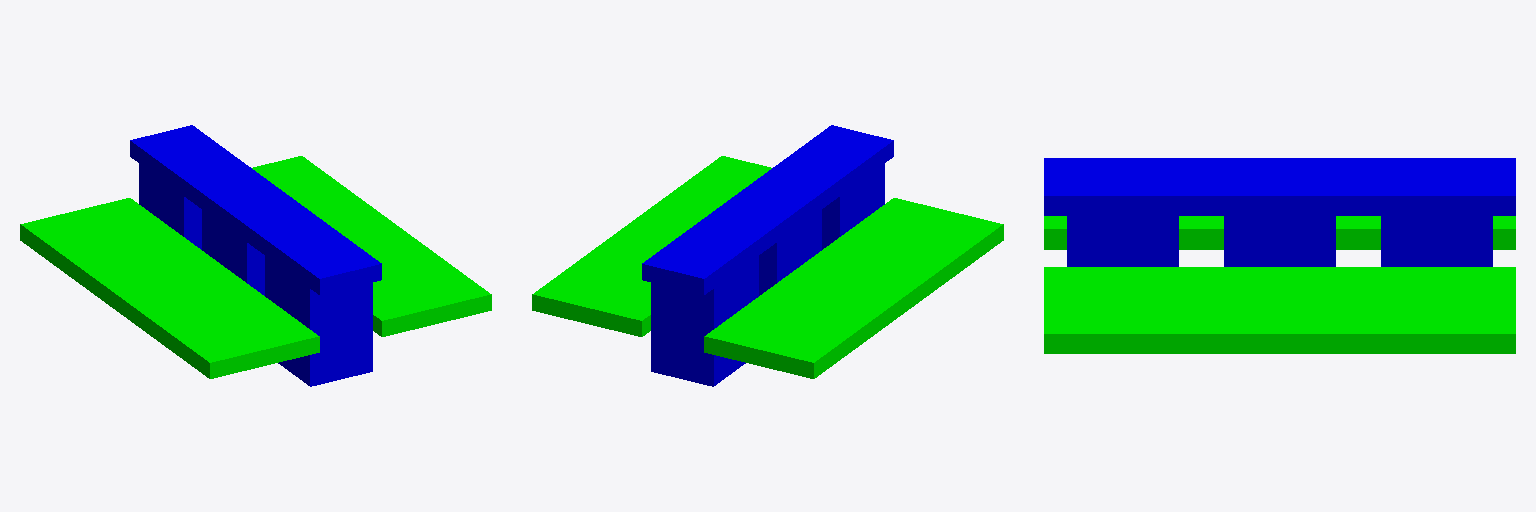
URDF robot description (robot):
<robot name = "robot">
    <link name="root">
        <inertial>
            <origin xyz="0.0 0.0 1.5" rpy="0 0 0"/>
            <mass value="1" />
            <inertia ixx="100" ixy="0" ixz="0" iyy="100" iyz="0" izz="100" />
        </inertial>
        <visual>
            <origin xyz="0.0 0.0 1.5" rpy="0 0 0"/>
            <geometry>
                <box size="0 0 0.0001" />
            </geometry>
            <material name="Green">
                <color rgba="0 1.0 0.0 1.0"/>
            </material>
        </visual>
        <collision>
            <origin xyz="0.0 0.0 1.5" rpy="0 0 0"/>
            <geometry>
                <box size="0 0 0.0001" />
            </geometry>
        </collision>
    </link>
    <joint name="root_000" type="revolute">
       <parent link="root"/>
       <child  link="000"/>
       <origin rpy="0 0 0" xyz="0.0 0.0 1.5" />
     <axis xyz="1 0 0"/>
       <limit effort="0.0" lower="-3.14159" upper="3.14159" velocity="0.0"/>
    </joint>
    <link name="000">
        <inertial>
            <origin xyz="0.0 0.35 0.0" rpy="0 0 0"/>
            <mass value="1" />
            <inertia ixx="100" ixy="0" ixz="0" iyy="100" iyz="0" izz="100" />
        </inertial>
        <visual>
            <origin xyz="0.0 0.35 0.0" rpy="0 0 0"/>
            <geometry>
                <box size="0.4 0.7 0.1" />
            </geometry>
            <material name="Blue">
                <color rgba="0 0.0 1.0 1.0"/>
            </material>
        </visual>
        <collision>
            <origin xyz="0.0 0.35 0.0" rpy="0 0 0"/>
            <geometry>
                <box size="0.4 0.7 0.1" />
            </geometry>
        </collision>
    </link>
    <joint name="000_010" type="revolute">
       <parent link="000"/>
       <child  link="010"/>
       <origin rpy="0 0 0" xyz="0.0 0.7 -0.0" />
     <axis xyz="0 1 0"/>
       <limit effort="0.0" lower="-3.14159" upper="3.14159" velocity="0.0"/>
    </joint>
    <link name="010">
        <inertial>
            <origin xyz="0.0 0.35 -0.0" rpy="0 0 0"/>
            <mass value="1" />
            <inertia ixx="100" ixy="0" ixz="0" iyy="100" iyz="0" izz="100" />
        </inertial>
        <visual>
            <origin xyz="0.0 0.35 -0.0" rpy="0 0 0"/>
            <geometry>
                <box size="0.4 0.7 0.1" />
            </geometry>
            <material name="Blue">
                <color rgba="0 0.0 1.0 1.0"/>
            </material>
        </visual>
        <collision>
            <origin xyz="0.0 0.35 -0.0" rpy="0 0 0"/>
            <geometry>
                <box size="0.4 0.7 0.1" />
            </geometry>
        </collision>
    </link>
    <joint name="010_020" type="revolute">
       <parent link="010"/>
       <child  link="020"/>
       <origin rpy="0 0 0" xyz="0.0 0.7 -0.0" />
     <axis xyz="0 1 0"/>
       <limit effort="0.0" lower="-3.14159" upper="3.14159" velocity="0.0"/>
    </joint>
    <link name="020">
        <inertial>
            <origin xyz="0.0 0.35 -0.0" rpy="0 0 0"/>
            <mass value="1" />
            <inertia ixx="100" ixy="0" ixz="0" iyy="100" iyz="0" izz="100" />
        </inertial>
        <visual>
            <origin xyz="0.0 0.35 -0.0" rpy="0 0 0"/>
            <geometry>
                <box size="0.4 0.7 0.1" />
            </geometry>
            <material name="Blue">
                <color rgba="0 0.0 1.0 1.0"/>
            </material>
        </visual>
        <collision>
            <origin xyz="0.0 0.35 -0.0" rpy="0 0 0"/>
            <geometry>
                <box size="0.4 0.7 0.1" />
            </geometry>
        </collision>
    </link>
    <joint name="020_020-100" type="revolute">
       <parent link="020"/>
       <child  link="020-100"/>
       <origin rpy="0 0 0" xyz="0.0 0.35 -0.05" />
     <axis xyz="0 0 1"/>
       <limit effort="0.0" lower="-3.14159" upper="3.14159" velocity="0.0"/>
    </joint>
    <link name="020-100">
        <inertial>
            <origin xyz="0.0 0.0 -0.3" rpy="0 0 0"/>
            <mass value="1" />
            <inertia ixx="100" ixy="0" ixz="0" iyy="100" iyz="0" izz="100" />
        </inertial>
        <visual>
            <origin xyz="0.0 0.0 -0.3" rpy="0 0 0"/>
            <geometry>
                <box size="0.4 0.5 0.6" />
            </geometry>
            <material name="Blue">
                <color rgba="0 0.0 1.0 1.0"/>
            </material>
        </visual>
        <collision>
            <origin xyz="0.0 0.0 -0.3" rpy="0 0 0"/>
            <geometry>
                <box size="0.4 0.5 0.6" />
            </geometry>
        </collision>
    </link>
    <joint name="020-100_020-100-200" type="revolute">
       <parent link="020-100"/>
       <child  link="020-100-200"/>
       <origin rpy="0 0 0" xyz="0.2 0.0 -0.3" />
     <axis xyz="1 0 0"/>
       <limit effort="0.0" lower="-3.14159" upper="3.14159" velocity="0.0"/>
    </joint>
    <link name="020-100-200">
        <inertial>
            <origin xyz="0.35 0.0 -0.0" rpy="0 0 0"/>
            <mass value="1" />
            <inertia ixx="100" ixy="0" ixz="0" iyy="100" iyz="0" izz="100" />
        </inertial>
        <visual>
            <origin xyz="0.35 0.0 -0.0" rpy="0 0 0"/>
            <geometry>
                <box size="0.7 0.7 0.1" />
            </geometry>
            <material name="Green">
                <color rgba="0 1.0 0.0 1.0"/>
            </material>
        </visual>
        <collision>
            <origin xyz="0.35 0.0 -0.0" rpy="0 0 0"/>
            <geometry>
                <box size="0.7 0.7 0.1" />
            </geometry>
        </collision>
    </link>
    <joint name="020-100_020-100-201" type="revolute">
       <parent link="020-100"/>
       <child  link="020-100-201"/>
       <origin rpy="0 0 0" xyz="-0.2 0.0 -0.3" />
     <axis xyz="1 0 0"/>
       <limit effort="0.0" lower="-3.14159" upper="3.14159" velocity="0.0"/>
    </joint>
    <link name="020-100-201">
        <inertial>
            <origin xyz="-0.35 0.0 -0.0" rpy="0 0 0"/>
            <mass value="1" />
            <inertia ixx="100" ixy="0" ixz="0" iyy="100" iyz="0" izz="100" />
        </inertial>
        <visual>
            <origin xyz="-0.35 0.0 -0.0" rpy="0 0 0"/>
            <geometry>
                <box size="0.7 0.7 0.1" />
            </geometry>
            <material name="Green">
                <color rgba="0 1.0 0.0 1.0"/>
            </material>
        </visual>
        <collision>
            <origin xyz="-0.35 0.0 -0.0" rpy="0 0 0"/>
            <geometry>
                <box size="0.7 0.7 0.1" />
            </geometry>
        </collision>
    </link>
    <joint name="010_010-100" type="revolute">
       <parent link="010"/>
       <child  link="010-100"/>
       <origin rpy="0 0 0" xyz="0.0 0.35 -0.05" />
     <axis xyz="0 0 1"/>
       <limit effort="0.0" lower="-3.14159" upper="3.14159" velocity="0.0"/>
    </joint>
    <link name="010-100">
        <inertial>
            <origin xyz="0.0 0.0 -0.3" rpy="0 0 0"/>
            <mass value="1" />
            <inertia ixx="100" ixy="0" ixz="0" iyy="100" iyz="0" izz="100" />
        </inertial>
        <visual>
            <origin xyz="0.0 0.0 -0.3" rpy="0 0 0"/>
            <geometry>
                <box size="0.4 0.5 0.6" />
            </geometry>
            <material name="Blue">
                <color rgba="0 0.0 1.0 1.0"/>
            </material>
        </visual>
        <collision>
            <origin xyz="0.0 0.0 -0.3" rpy="0 0 0"/>
            <geometry>
                <box size="0.4 0.5 0.6" />
            </geometry>
        </collision>
    </link>
    <joint name="010-100_010-100-200" type="revolute">
       <parent link="010-100"/>
       <child  link="010-100-200"/>
       <origin rpy="0 0 0" xyz="0.2 0.0 -0.3" />
     <axis xyz="1 0 0"/>
       <limit effort="0.0" lower="-3.14159" upper="3.14159" velocity="0.0"/>
    </joint>
    <link name="010-100-200">
        <inertial>
            <origin xyz="0.35 0.0 -0.0" rpy="0 0 0"/>
            <mass value="1" />
            <inertia ixx="100" ixy="0" ixz="0" iyy="100" iyz="0" izz="100" />
        </inertial>
        <visual>
            <origin xyz="0.35 0.0 -0.0" rpy="0 0 0"/>
            <geometry>
                <box size="0.7 0.7 0.1" />
            </geometry>
            <material name="Green">
                <color rgba="0 1.0 0.0 1.0"/>
            </material>
        </visual>
        <collision>
            <origin xyz="0.35 0.0 -0.0" rpy="0 0 0"/>
            <geometry>
                <box size="0.7 0.7 0.1" />
            </geometry>
        </collision>
    </link>
    <joint name="010-100_010-100-201" type="revolute">
       <parent link="010-100"/>
       <child  link="010-100-201"/>
       <origin rpy="0 0 0" xyz="-0.2 0.0 -0.3" />
     <axis xyz="1 0 0"/>
       <limit effort="0.0" lower="-3.14159" upper="3.14159" velocity="0.0"/>
    </joint>
    <link name="010-100-201">
        <inertial>
            <origin xyz="-0.35 0.0 -0.0" rpy="0 0 0"/>
            <mass value="1" />
            <inertia ixx="100" ixy="0" ixz="0" iyy="100" iyz="0" izz="100" />
        </inertial>
        <visual>
            <origin xyz="-0.35 0.0 -0.0" rpy="0 0 0"/>
            <geometry>
                <box size="0.7 0.7 0.1" />
            </geometry>
            <material name="Green">
                <color rgba="0 1.0 0.0 1.0"/>
            </material>
        </visual>
        <collision>
            <origin xyz="-0.35 0.0 -0.0" rpy="0 0 0"/>
            <geometry>
                <box size="0.7 0.7 0.1" />
            </geometry>
        </collision>
    </link>
    <joint name="000_000-100" type="revolute">
       <parent link="000"/>
       <child  link="000-100"/>
       <origin rpy="0 0 0" xyz="0.0 0.35 -0.05" />
     <axis xyz="0 0 1"/>
       <limit effort="0.0" lower="-3.14159" upper="3.14159" velocity="0.0"/>
    </joint>
    <link name="000-100">
        <inertial>
            <origin xyz="0.0 0.0 -0.3" rpy="0 0 0"/>
            <mass value="1" />
            <inertia ixx="100" ixy="0" ixz="0" iyy="100" iyz="0" izz="100" />
        </inertial>
        <visual>
            <origin xyz="0.0 0.0 -0.3" rpy="0 0 0"/>
            <geometry>
                <box size="0.4 0.5 0.6" />
            </geometry>
            <material name="Blue">
                <color rgba="0 0.0 1.0 1.0"/>
            </material>
        </visual>
        <collision>
            <origin xyz="0.0 0.0 -0.3" rpy="0 0 0"/>
            <geometry>
                <box size="0.4 0.5 0.6" />
            </geometry>
        </collision>
    </link>
    <joint name="000-100_000-100-200" type="revolute">
       <parent link="000-100"/>
       <child  link="000-100-200"/>
       <origin rpy="0 0 0" xyz="0.2 0.0 -0.3" />
     <axis xyz="1 0 0"/>
       <limit effort="0.0" lower="-3.14159" upper="3.14159" velocity="0.0"/>
    </joint>
    <link name="000-100-200">
        <inertial>
            <origin xyz="0.35 0.0 -0.0" rpy="0 0 0"/>
            <mass value="1" />
            <inertia ixx="100" ixy="0" ixz="0" iyy="100" iyz="0" izz="100" />
        </inertial>
        <visual>
            <origin xyz="0.35 0.0 -0.0" rpy="0 0 0"/>
            <geometry>
                <box size="0.7 0.7 0.1" />
            </geometry>
            <material name="Green">
                <color rgba="0 1.0 0.0 1.0"/>
            </material>
        </visual>
        <collision>
            <origin xyz="0.35 0.0 -0.0" rpy="0 0 0"/>
            <geometry>
                <box size="0.7 0.7 0.1" />
            </geometry>
        </collision>
    </link>
    <joint name="000-100_000-100-201" type="revolute">
       <parent link="000-100"/>
       <child  link="000-100-201"/>
       <origin rpy="0 0 0" xyz="-0.2 0.0 -0.3" />
     <axis xyz="1 0 0"/>
       <limit effort="0.0" lower="-3.14159" upper="3.14159" velocity="0.0"/>
    </joint>
    <link name="000-100-201">
        <inertial>
            <origin xyz="-0.35 0.0 -0.0" rpy="0 0 0"/>
            <mass value="1" />
            <inertia ixx="100" ixy="0" ixz="0" iyy="100" iyz="0" izz="100" />
        </inertial>
        <visual>
            <origin xyz="-0.35 0.0 -0.0" rpy="0 0 0"/>
            <geometry>
                <box size="0.7 0.7 0.1" />
            </geometry>
            <material name="Green">
                <color rgba="0 1.0 0.0 1.0"/>
            </material>
        </visual>
        <collision>
            <origin xyz="-0.35 0.0 -0.0" rpy="0 0 0"/>
            <geometry>
                <box size="0.7 0.7 0.1" />
            </geometry>
        </collision>
    </link>
</robot>

--- Facts derived from the render (not from the file) ---
3 views of the same robot in one strip: view 1: azimuth 30°, elevation 25°; view 2: azimuth 150°, elevation 25°; view 3: azimuth 270°, elevation 25° (orthographic).
Model robot with 13 links and 12 joints (12 revolute), rooted at root, posed every joint at zero.
Links seen in each view (by area): view 1: [phone redacted] (×6), 000-100, 000, 010, 020, 010-100, 020-100; view 2: [phone redacted] (×6), 020-100, 020, 000, 010, 010-100, 000-100; view 3: [phone redacted] (×6), 010, 000, 020, 020-100, 010-100, 000-100.
Boxes of the visible links, left/top/right/bottom form: [phone redacted] (×6): left=20, top=156, right=491, bottom=378; 000-100: left=265, top=256, right=372, bottom=386; 000: left=256, top=218, right=381, bottom=294; 010: left=193, top=171, right=318, bottom=248; 020: left=130, top=125, right=254, bottom=201; 010-100: left=202, top=210, right=264, bottom=295; 020-100: left=139, top=164, right=201, bottom=249; [phone redacted] (×6): left=532, top=156, right=1003, bottom=378; 020-100: left=651, top=256, right=758, bottom=386; 020: left=642, top=218, right=767, bottom=294; 000: left=769, top=125, right=893, bottom=201; 010: left=705, top=171, right=830, bottom=248; 010-100: left=759, top=210, right=821, bottom=295; 000-100: left=822, top=164, right=884, bottom=249; [phone redacted] (×6): left=1044, top=216, right=1515, bottom=353; 010: left=1201, top=158, right=1358, bottom=215; 000: left=1044, top=158, right=1200, bottom=215; 020: left=1359, top=158, right=1515, bottom=215; 020-100: left=1381, top=216, right=1492, bottom=266; 010-100: left=1224, top=216, right=1335, bottom=266; 000-100: left=1067, top=216, right=1178, bottom=266.
Size in the robot's own frame: 1.8 by 2.1 by 0.7 metres.
Geometry: primitives only (box / cylinder / sphere), no mesh files.
